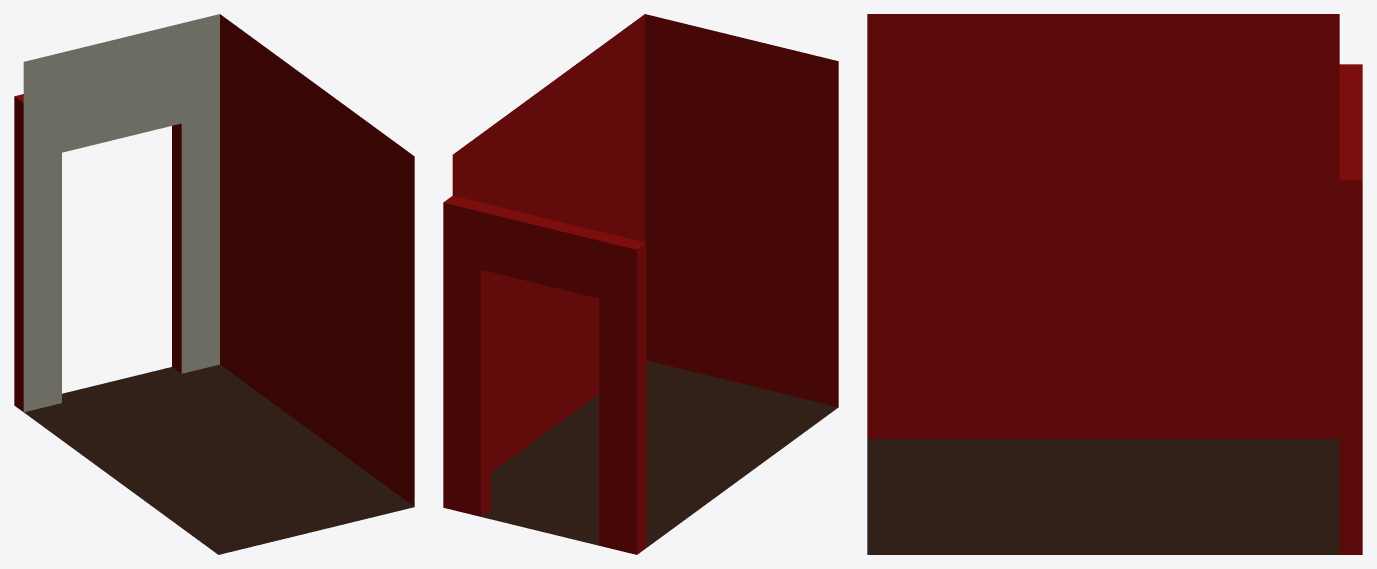
The model's file is bar-storage-room.glb.
3 renders of one model, left to right at view 1: azimuth 30°, elevation 25°; view 2: azimuth 150°, elevation 25°; view 3: azimuth 270°, elevation 25°, orthographic. The views are drawn at different scales.
Visible parts, largest first — view 1: StorageRoom; view 2: StorageRoom; view 3: StorageRoom.
Boxes of the visible parts, x1,y1,x2,y2 form: StorageRoom: (14,14,414,554); StorageRoom: (443,14,838,554); StorageRoom: (867,14,1362,554).
Bounding box in the file's own units: 1.64 × 2.8 × 2.96.
